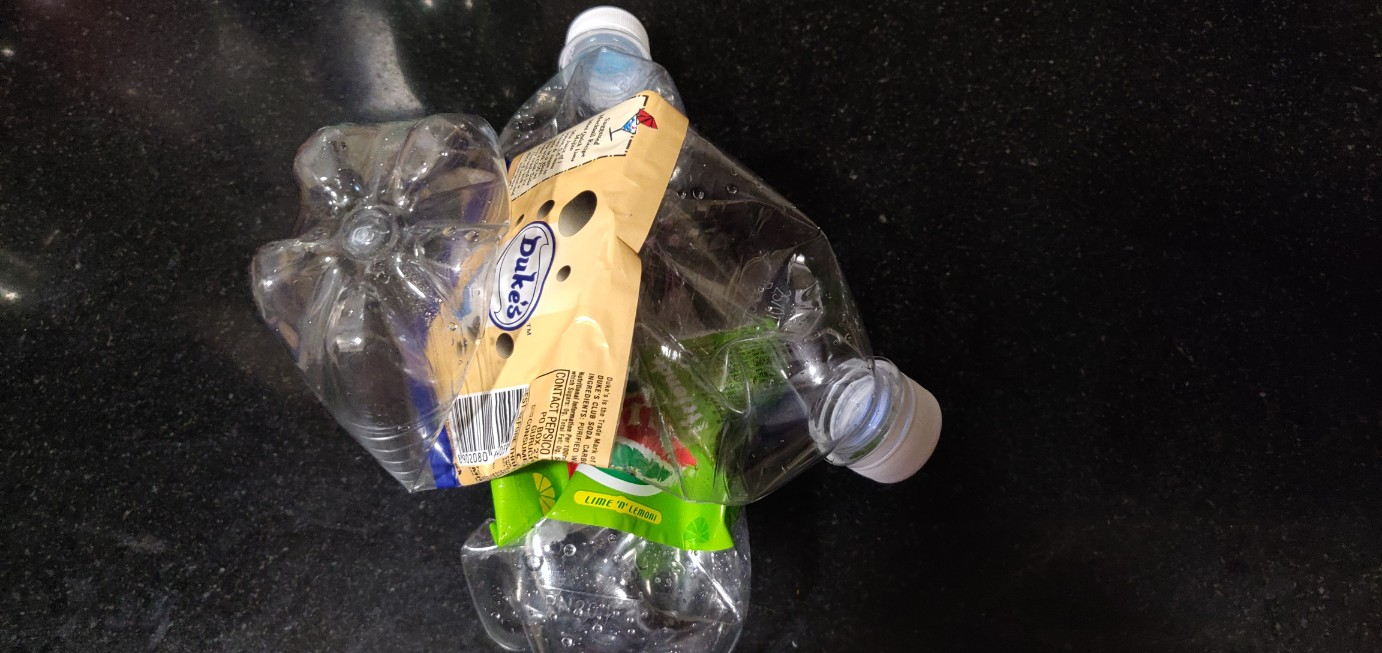Electronics: (222, 81, 983, 551), (399, 9, 805, 653)
